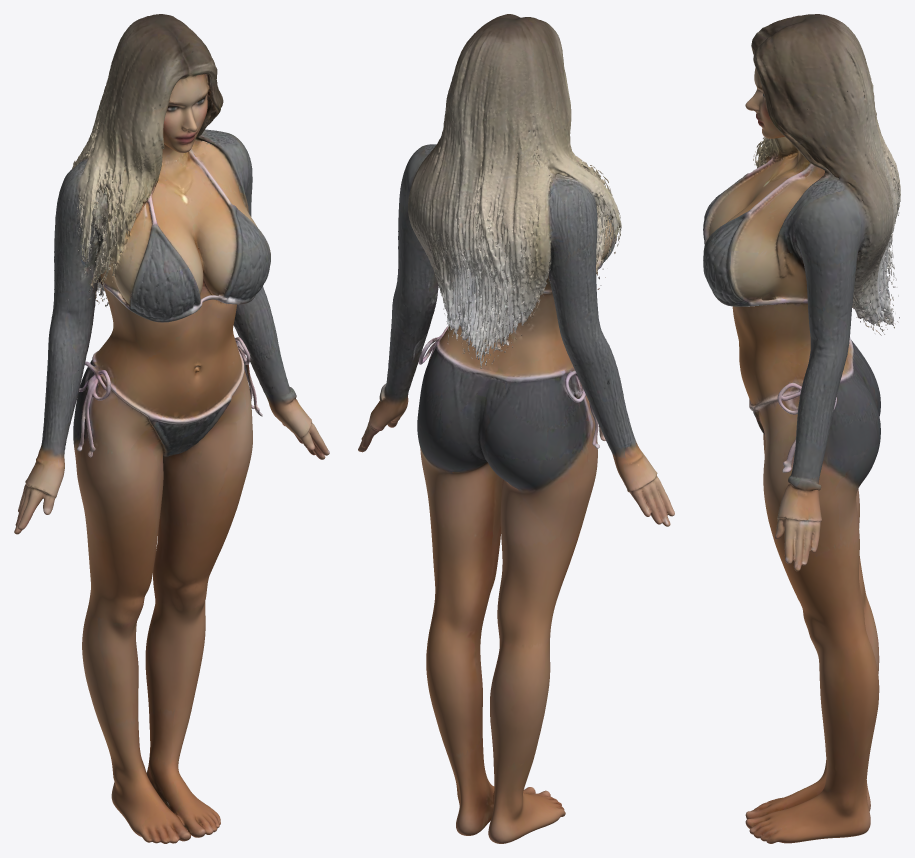
3 views of the same model, side by side, from view 1: azimuth 30°, elevation 25°; view 2: azimuth 150°, elevation 25°; view 3: azimuth 270°, elevation 25° (orthographic).
Parts seen in each view (by area): view 1: Object_4; view 2: Object_4; view 3: Object_4.
Part boxes in pixels (x1,y1,x2,y2): Object_4: (14, 14, 329, 843); Object_4: (358, 14, 674, 843); Object_4: (703, 14, 900, 843).
Bounding box in the file's own units: 0.7726 × 1.9 × 0.4205.
Materials: 1 (1 with a texture image).
